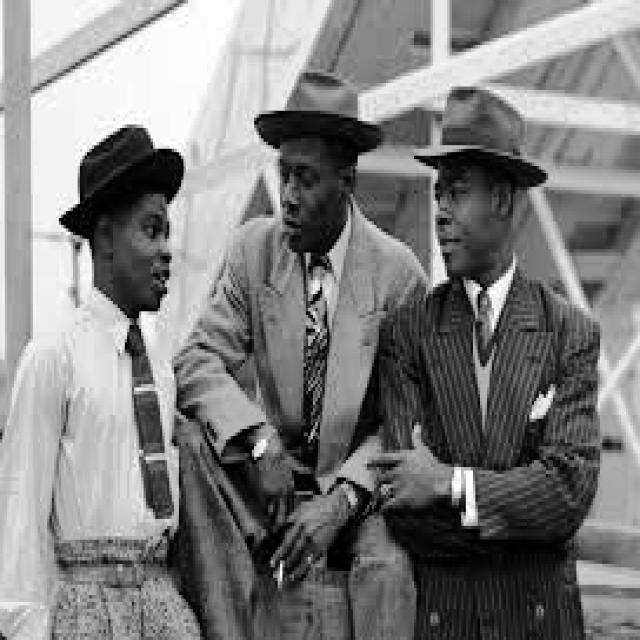TOPI: (52, 118, 186, 238), (409, 72, 548, 186), (247, 58, 381, 156)
